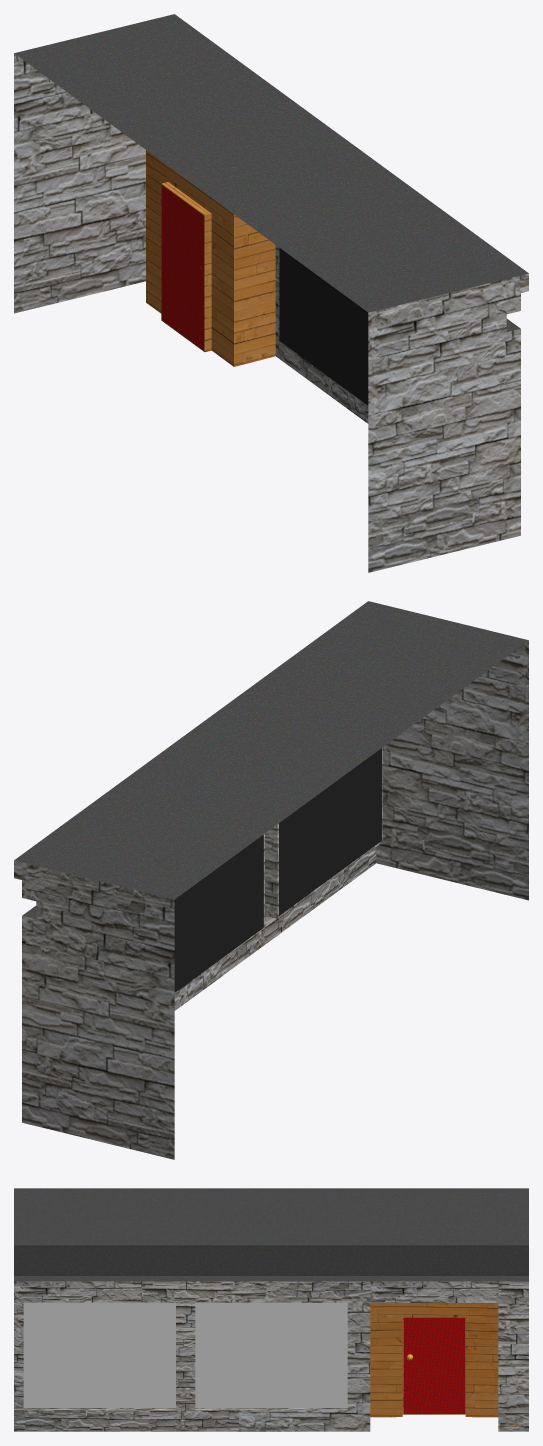
The model's file is Building_facede_A.dae.
3 views of the same model, one above another, from view 1: azimuth 30°, elevation 25°; view 2: azimuth 150°, elevation 25°; view 3: azimuth 270°, elevation 25° (orthographic). The views are drawn at different scales.
Parts seen in each view (by area): view 1: Restaurant; view 2: Restaurant; view 3: Restaurant, Window.
Boxes of the visible parts, x1=… form: Restaurant: x1=14, y1=14, x2=528, y2=572; Restaurant: x1=14, y1=601, x2=528, y2=1159; Restaurant: x1=14, y1=1188, x2=528, y2=1431; Window: x1=23, y1=1302, x2=347, y2=1407.
Bounding box in the file's own units: 2.11 × 8.05 × 3.27.
Materials: 2 (1 with a texture image).
